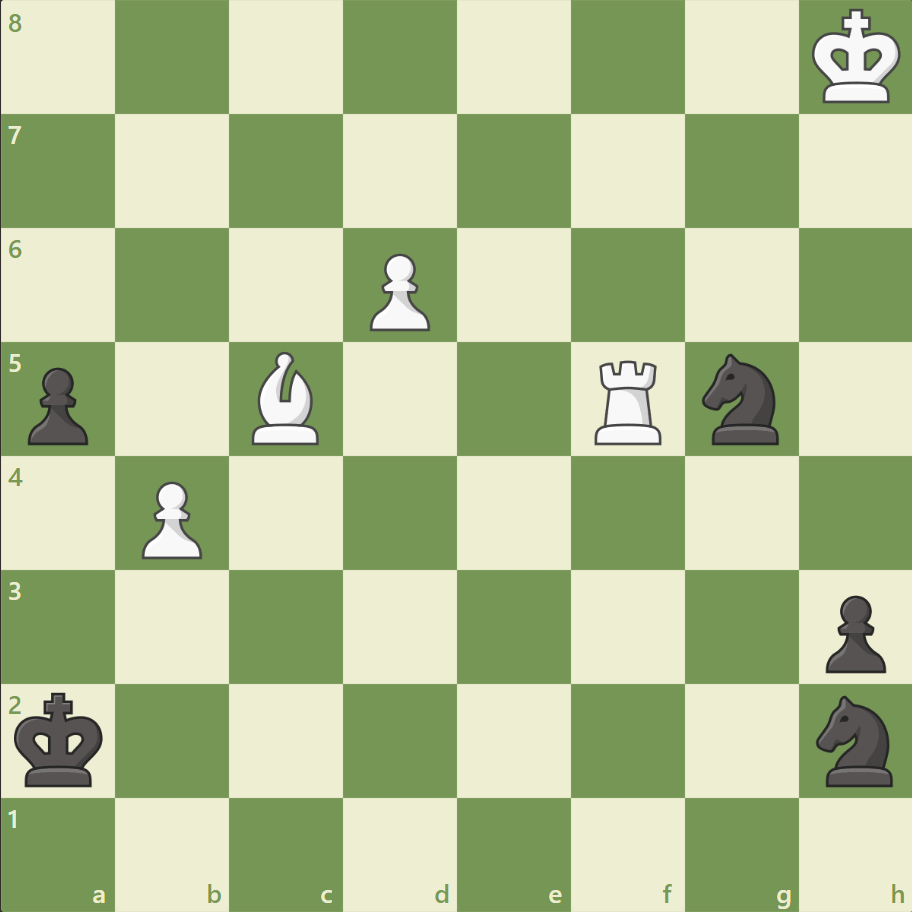B: (244, 347, 328, 449)
K: (806, 4, 906, 112)
P: (133, 473, 208, 564), (361, 246, 435, 337)
R: (587, 352, 670, 449)
k: (11, 685, 111, 793)
n: (806, 688, 903, 791), (692, 348, 789, 450)
p: (20, 359, 95, 450), (815, 586, 889, 677)
